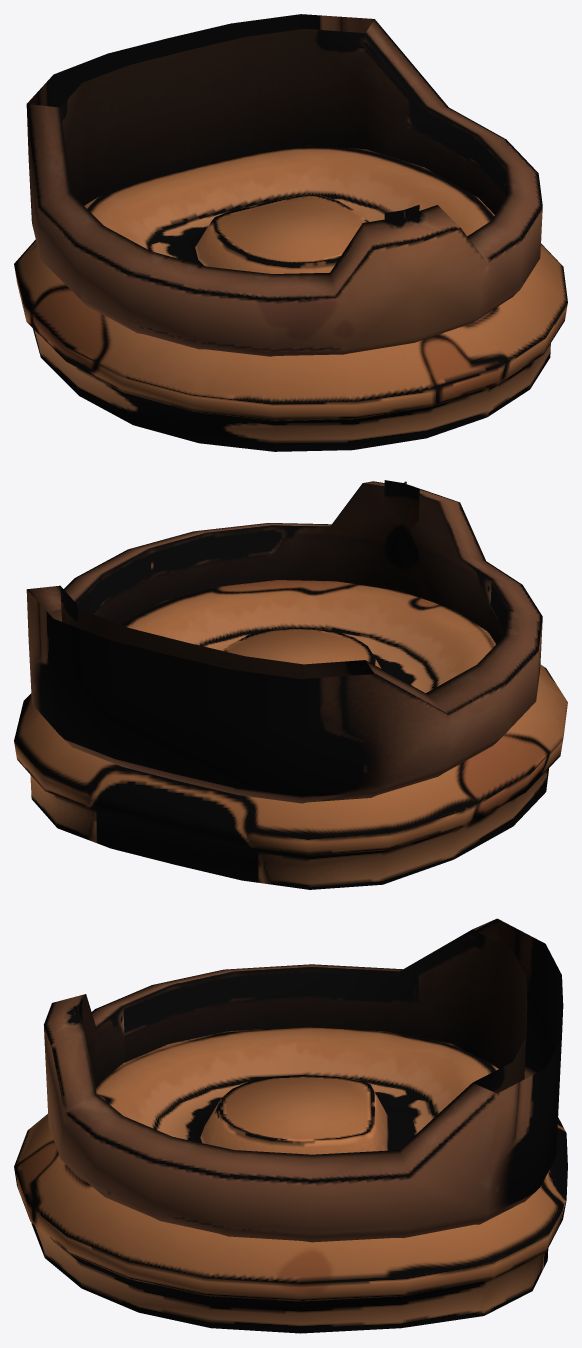
The model's file is cryopod_pieces.fbx.
The picture shows the model from 3 angles, top to bottom: view 1: azimuth 30°, elevation 25°; view 2: azimuth 150°, elevation 25°; view 3: azimuth 270°, elevation 25°; orthographic projection. The views are drawn at different scales.
Parts seen in each view (by area): view 1: cryopod_p2, cryopod_p1; view 2: cryopod_p2, cryopod_p1; view 3: cryopod_p2, cryopod_p1.
Boxes of the visible parts, x1,y1,x2,y2 form: cryopod_p2: (26,14,542,356); cryopod_p1: (14,145,567,451); cryopod_p2: (26,480,542,803); cryopod_p1: (14,580,567,889); cryopod_p2: (44,918,563,1242); cryopod_p1: (14,1027,567,1333).
Bounding box in the file's own units: 205 × 90.66 × 205.
